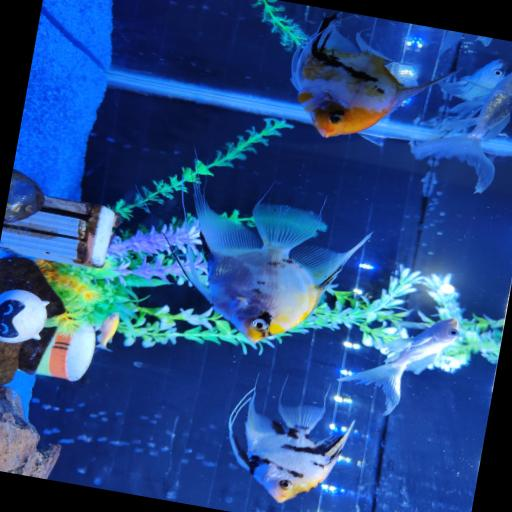Fish: (190, 184, 369, 342), (291, 14, 451, 137), (228, 388, 353, 502), (411, 73, 511, 193), (337, 319, 458, 415), (438, 59, 505, 119), (439, 59, 505, 101), (95, 313, 119, 350), (439, 30, 461, 54)
